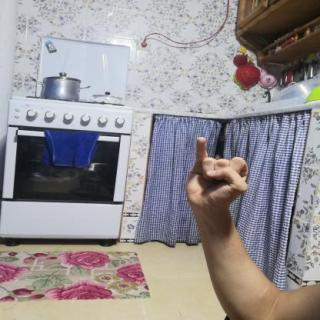MEEM: (175, 132, 255, 218)
